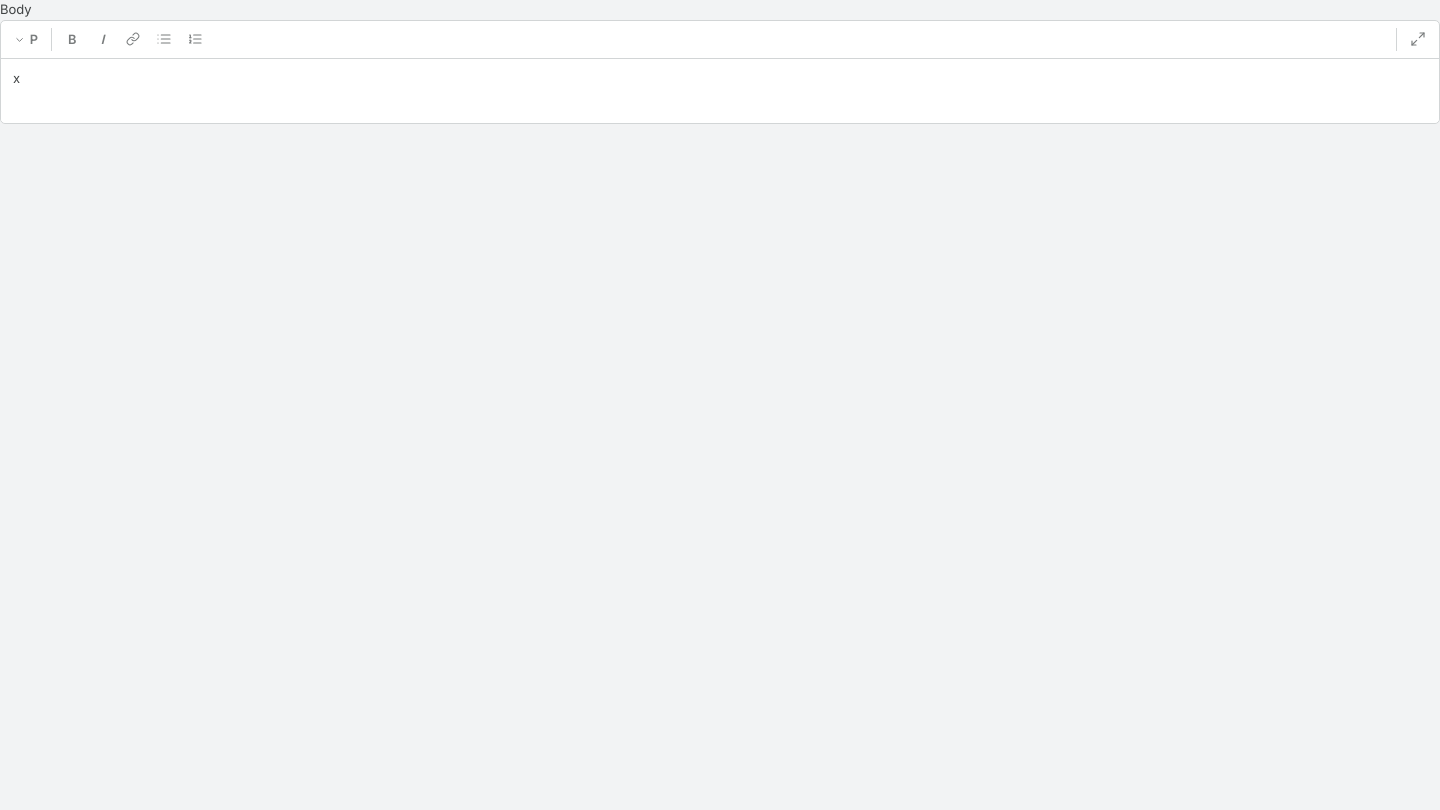
Test case: RichTextField › toolbar buttons › picking a page from the suggestions applies the link straight away, like Add
Click the button named "Link" at (133, 39), box [119, 25, 147, 53]
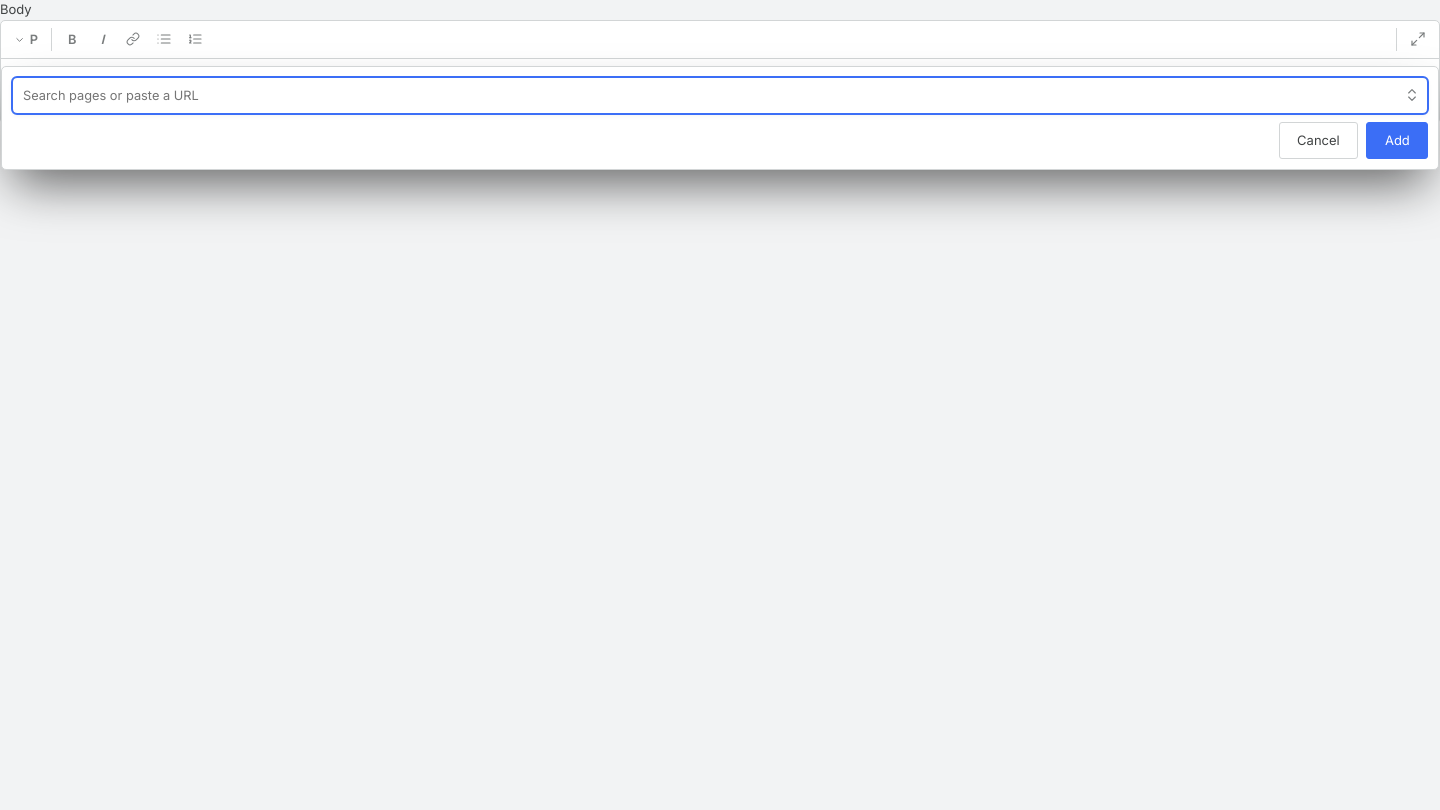
Type "abo" into the dropdown named "Link URL" at (720, 95), box [12, 77, 1428, 114]
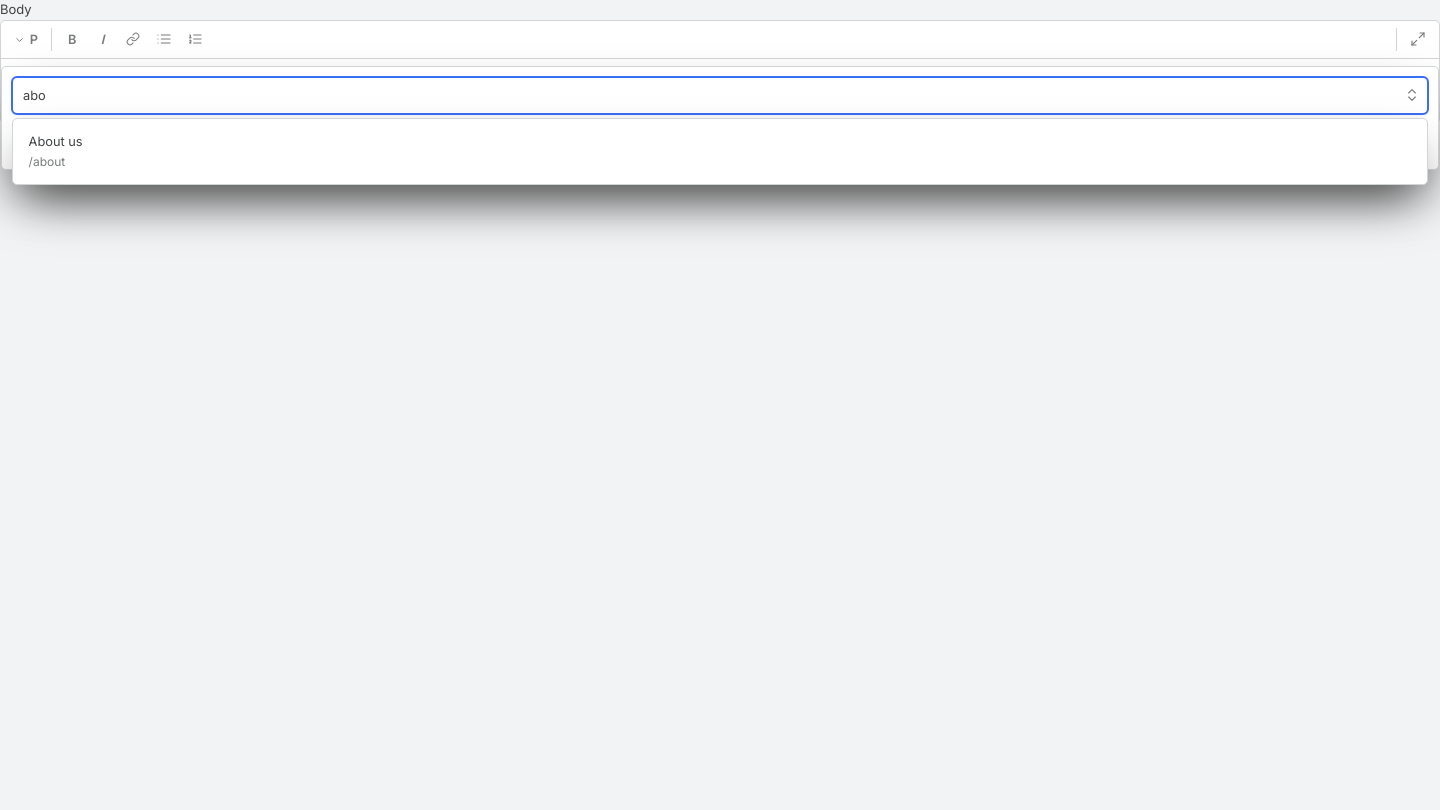
Press the mouse on the option "About us /about" at (56, 141), box [19, 125, 1421, 177]
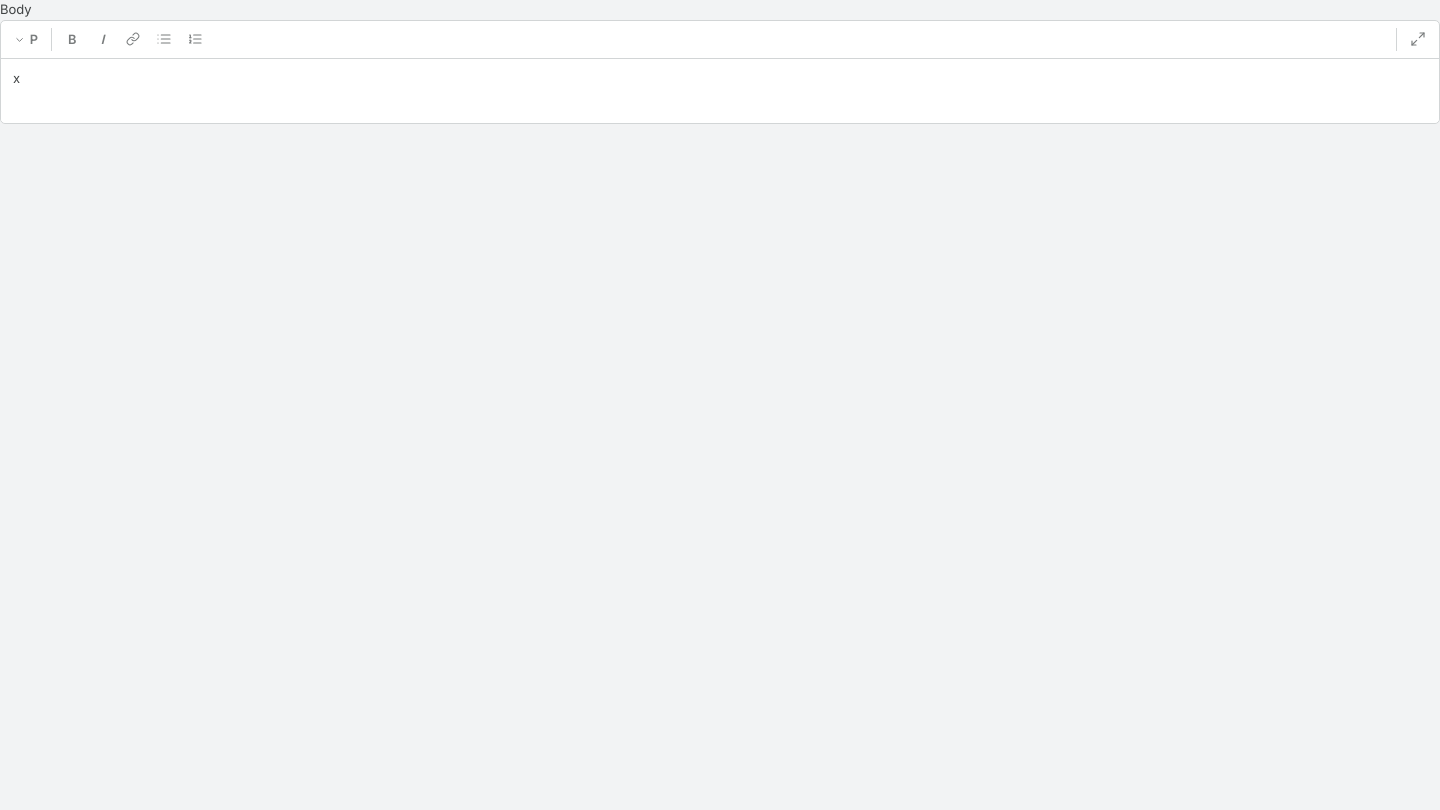
Check: the dialog is gone
